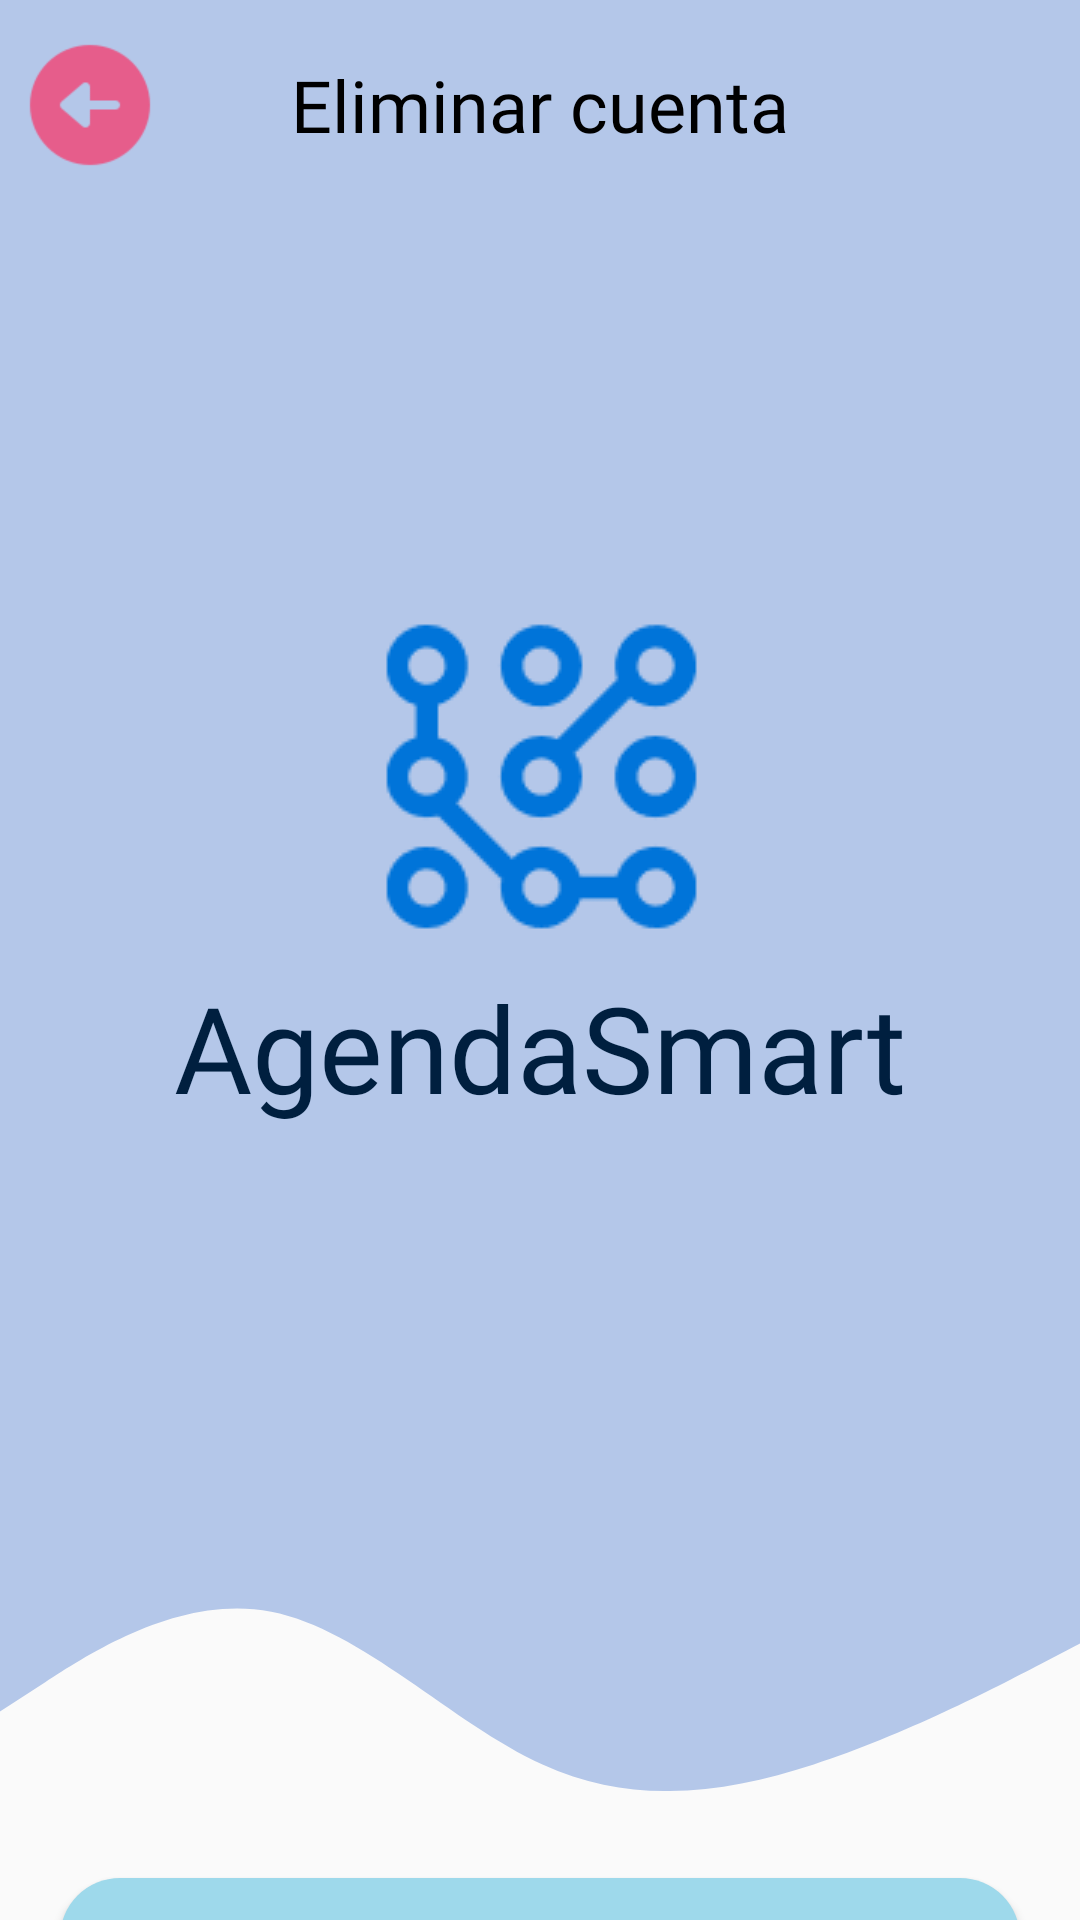

Locate icon controls on the screen. Image size 1080w x 1920h, boxes as (x1, y1, x2, y2).
salir: (30, 45, 150, 165)
